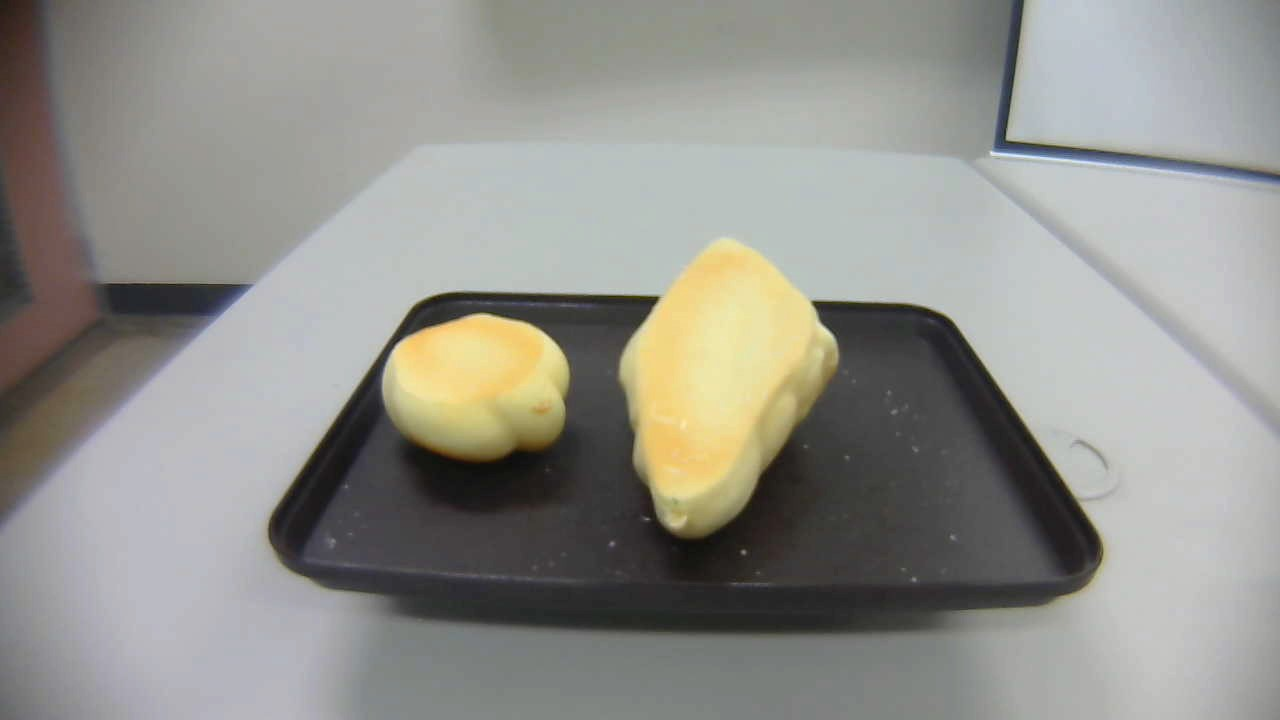croissant: (618, 235, 840, 542)
twist bread: (382, 312, 570, 464)
